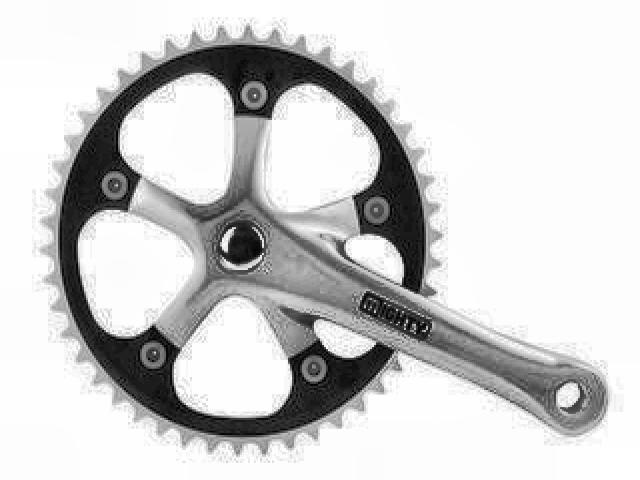cranks_set: (36, 22, 611, 460)
